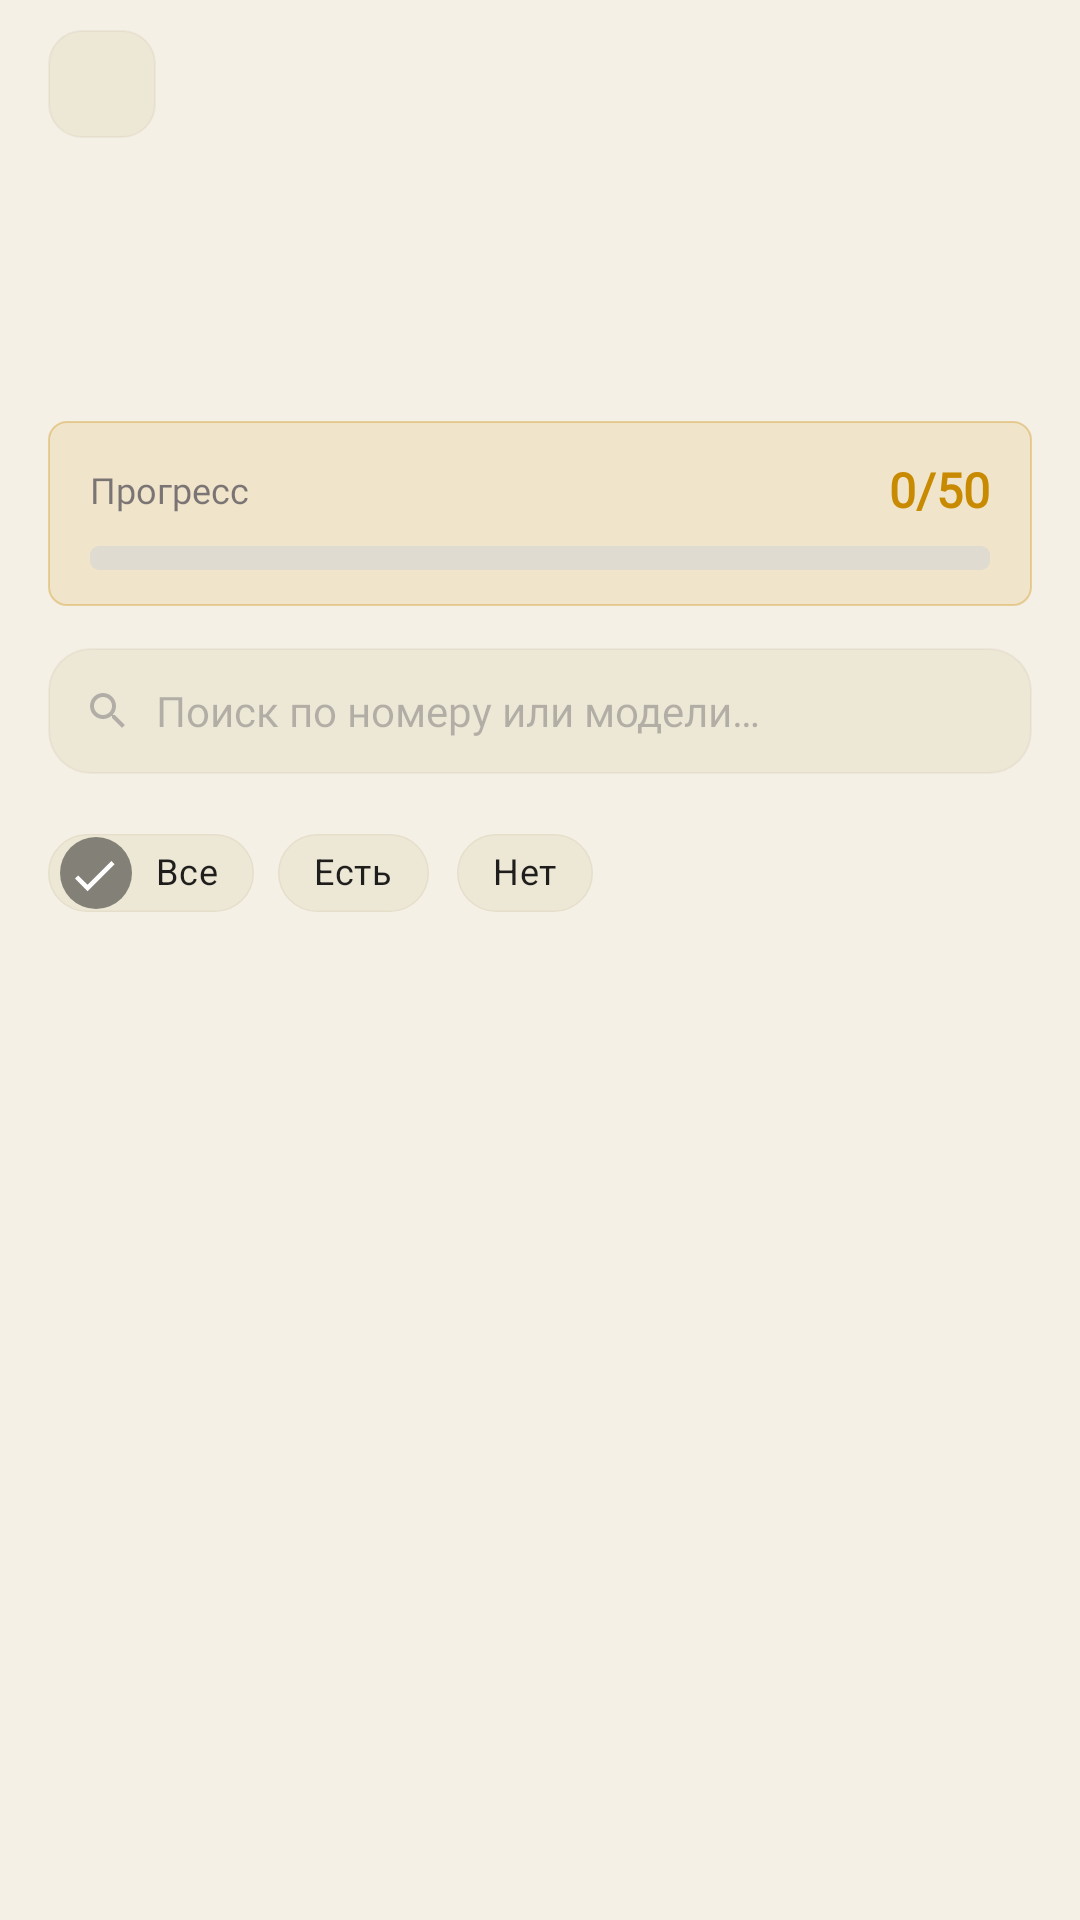

Screen size 1080w x 1920h. Icon name, then its center in pixels as point (x, y):
search: point (107, 710)
